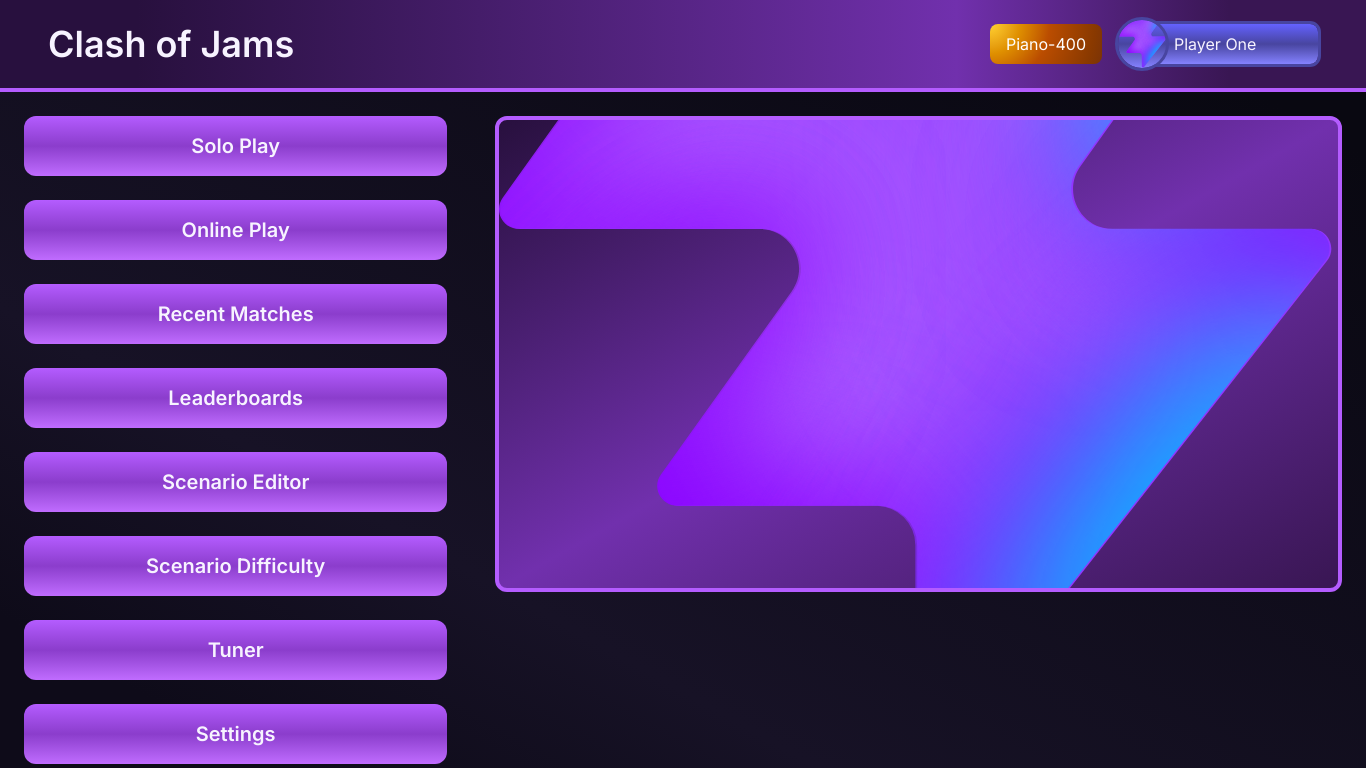
Test: Elo UI › shows a failed preference save and retains the previous instrument
Click the button with aria-label "View piano Elo" at [1046, 44], box [990, 24, 1102, 64]
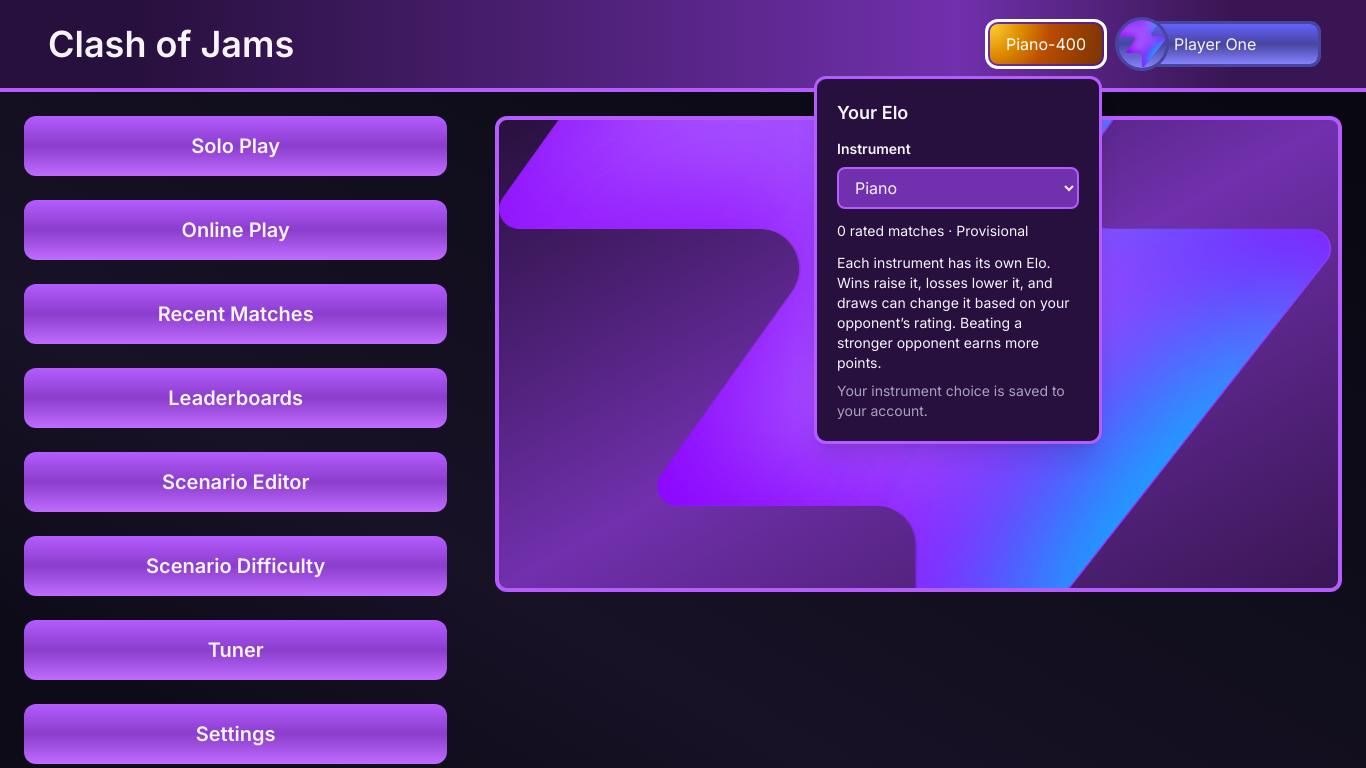
Select "guitar" in the dropdown labelled "Instrument" at [958, 188], box [837, 167, 1079, 209]
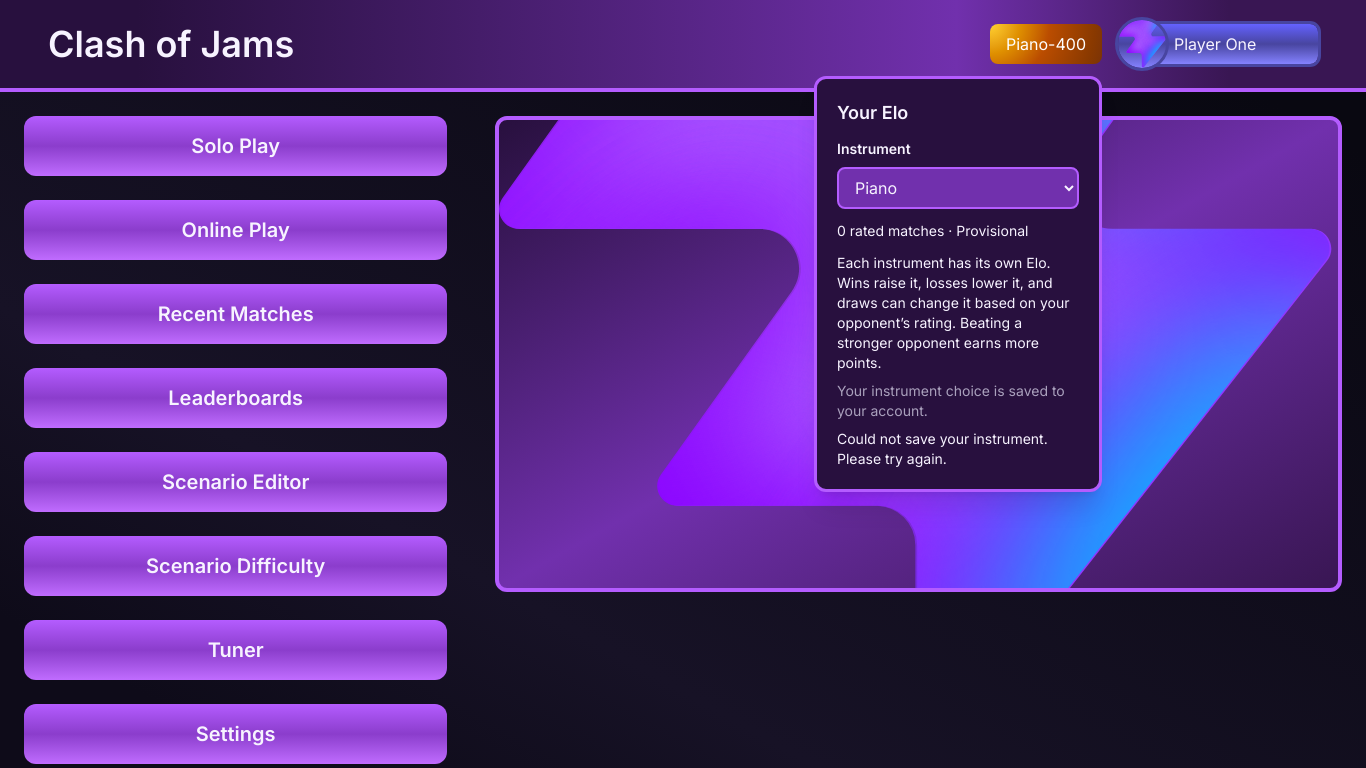
Now the message shows "Could not save your instrument", box [837, 430, 1048, 467]
